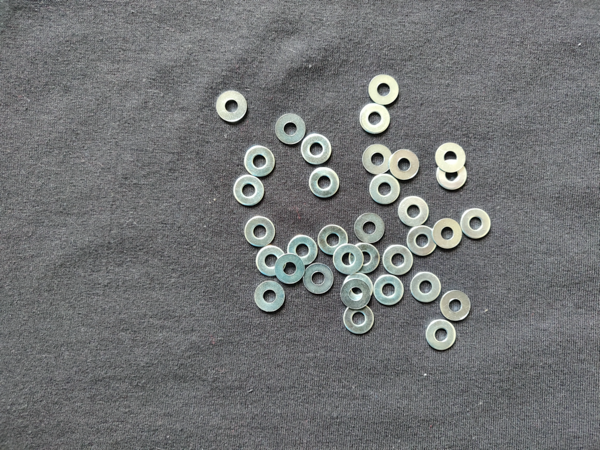circle: (373, 274, 405, 307), (440, 290, 472, 322), (410, 272, 442, 304), (254, 281, 286, 313), (303, 263, 335, 295), (398, 196, 430, 228), (232, 174, 264, 206), (216, 90, 248, 122), (426, 319, 457, 352), (343, 304, 375, 335), (461, 208, 492, 240), (407, 226, 438, 258), (369, 74, 400, 106), (309, 167, 340, 199), (244, 146, 276, 177), (344, 273, 374, 306), (318, 225, 349, 256), (435, 142, 466, 173), (301, 134, 332, 165), (245, 216, 275, 248), (370, 173, 400, 205), (256, 246, 286, 277), (287, 235, 318, 265), (354, 213, 384, 244), (333, 244, 363, 275), (437, 159, 467, 190), (389, 149, 419, 180), (360, 103, 390, 134), (275, 114, 305, 145), (275, 254, 305, 284), (341, 279, 371, 309), (383, 245, 413, 275), (350, 243, 379, 274), (433, 218, 462, 249), (363, 145, 393, 174)
